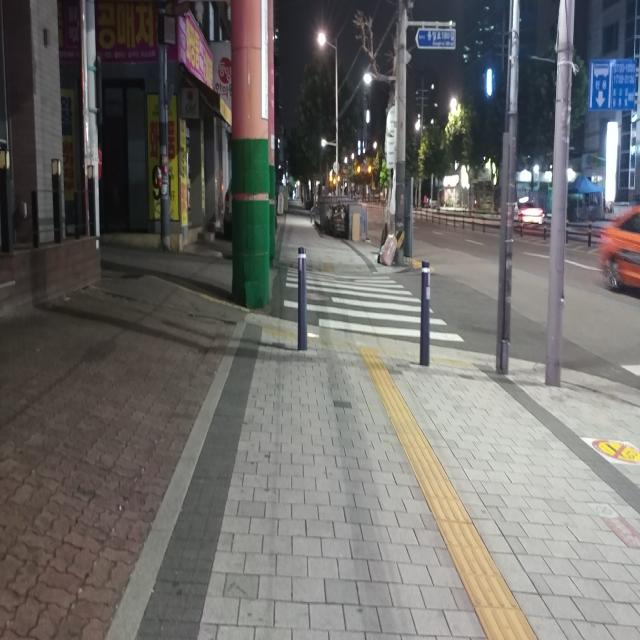횡단보도: (283, 266, 465, 342)
